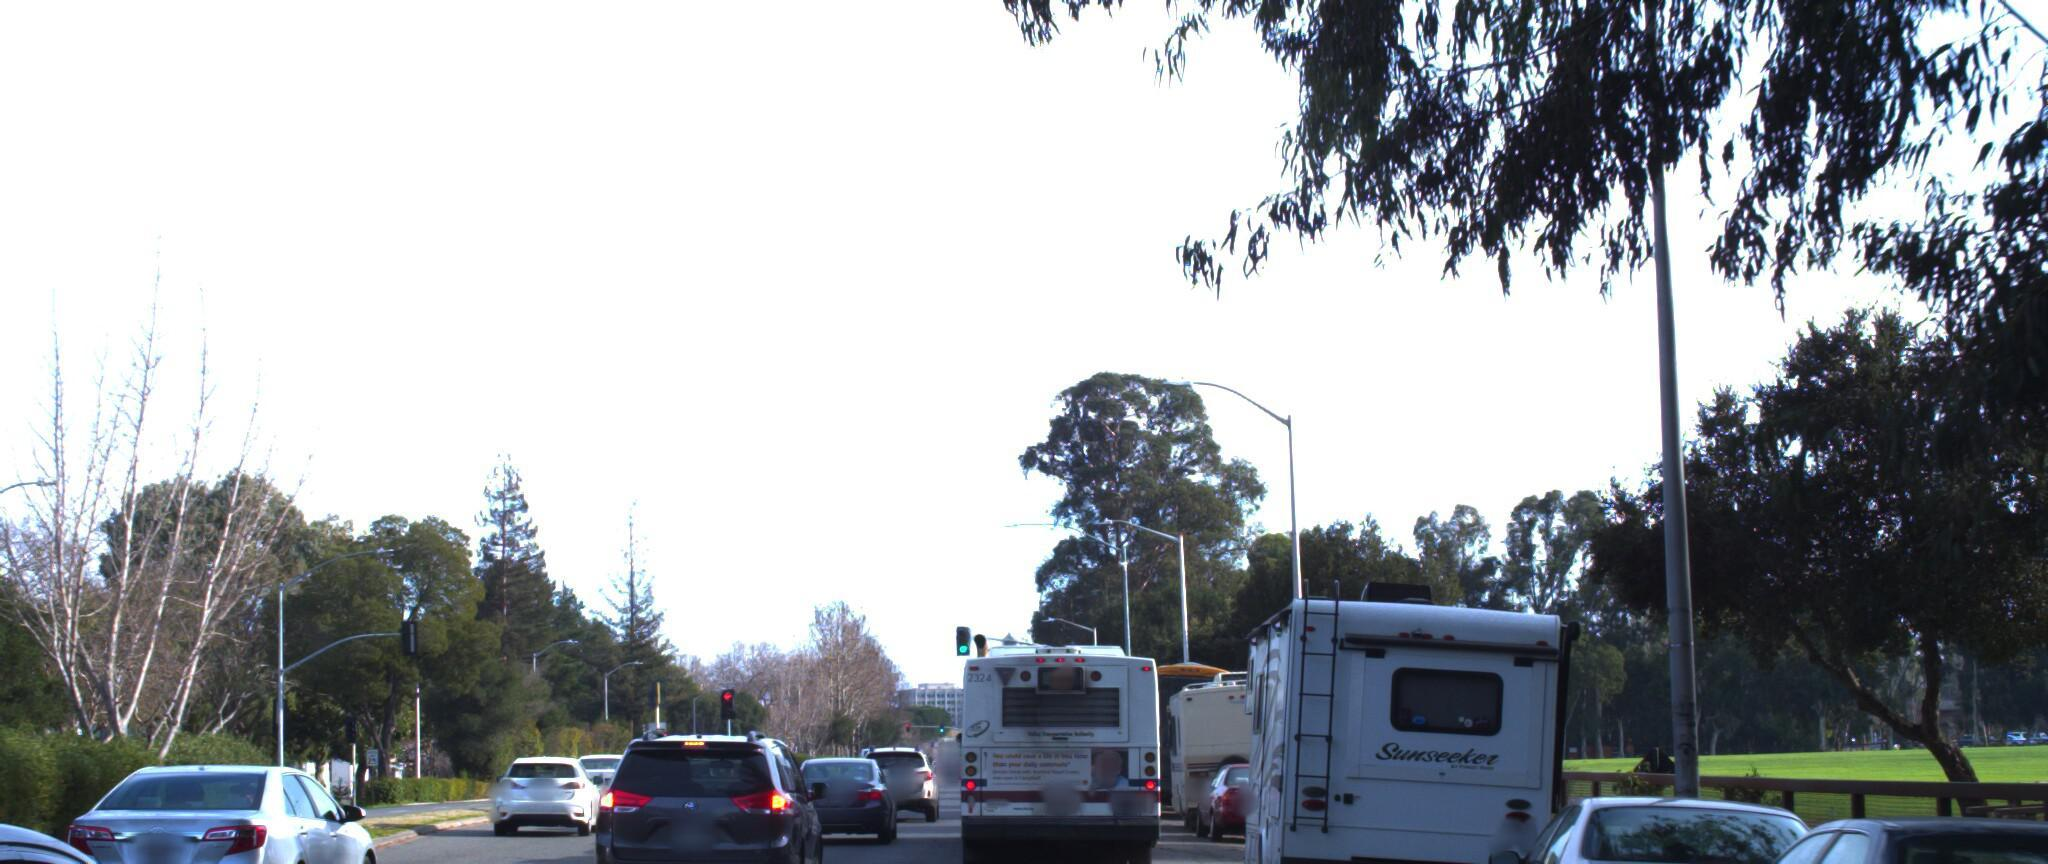bus: (942, 596, 1176, 854), (1121, 645, 1270, 803)
car: (1467, 767, 1907, 864), (0, 748, 332, 864), (57, 754, 392, 864), (598, 713, 829, 864), (1599, 787, 2048, 864), (483, 750, 609, 844), (799, 750, 921, 841), (882, 743, 984, 810)
other_vehicle: (1226, 564, 1591, 864), (1166, 649, 1317, 820)
